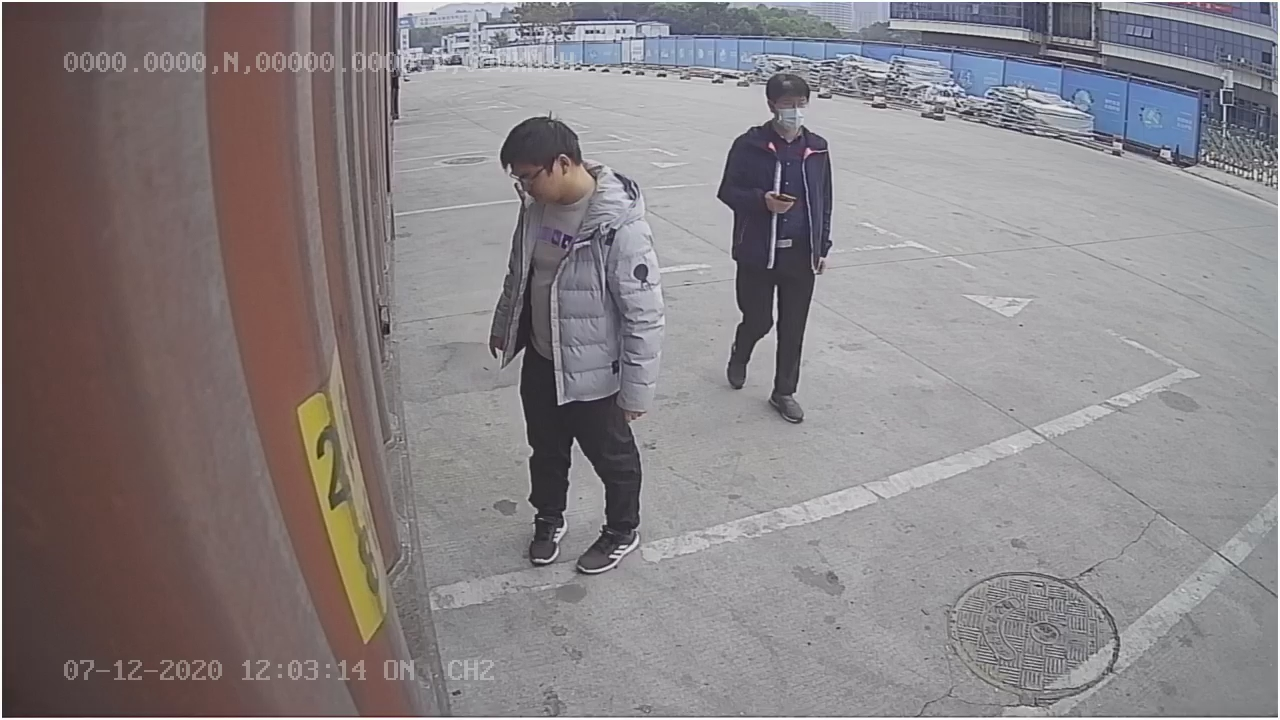person: (486, 107, 663, 573), (717, 67, 835, 427)
